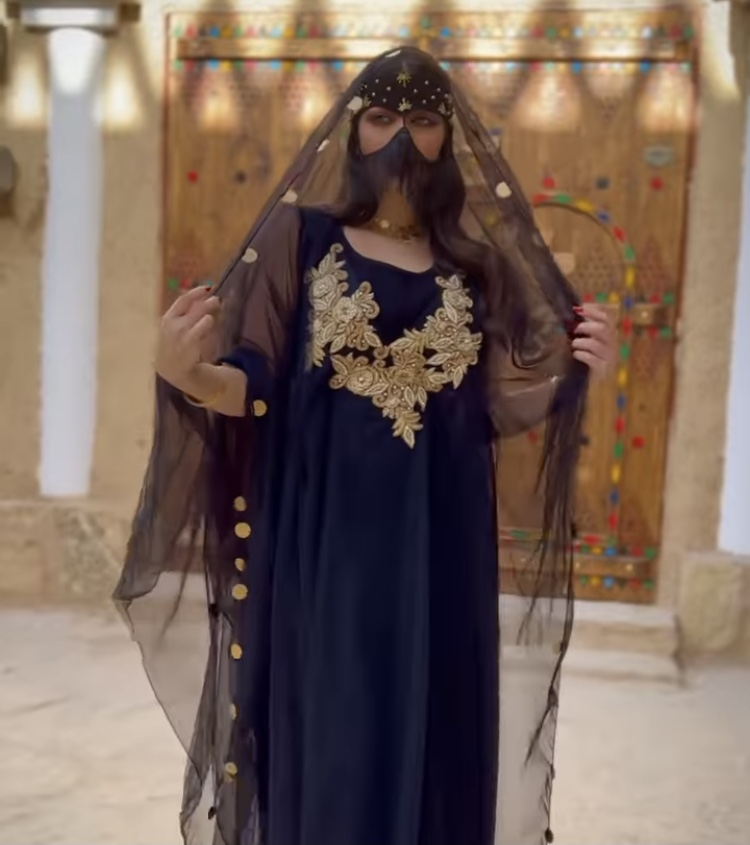Saudi_Founding_Day: (112, 42, 620, 845)
